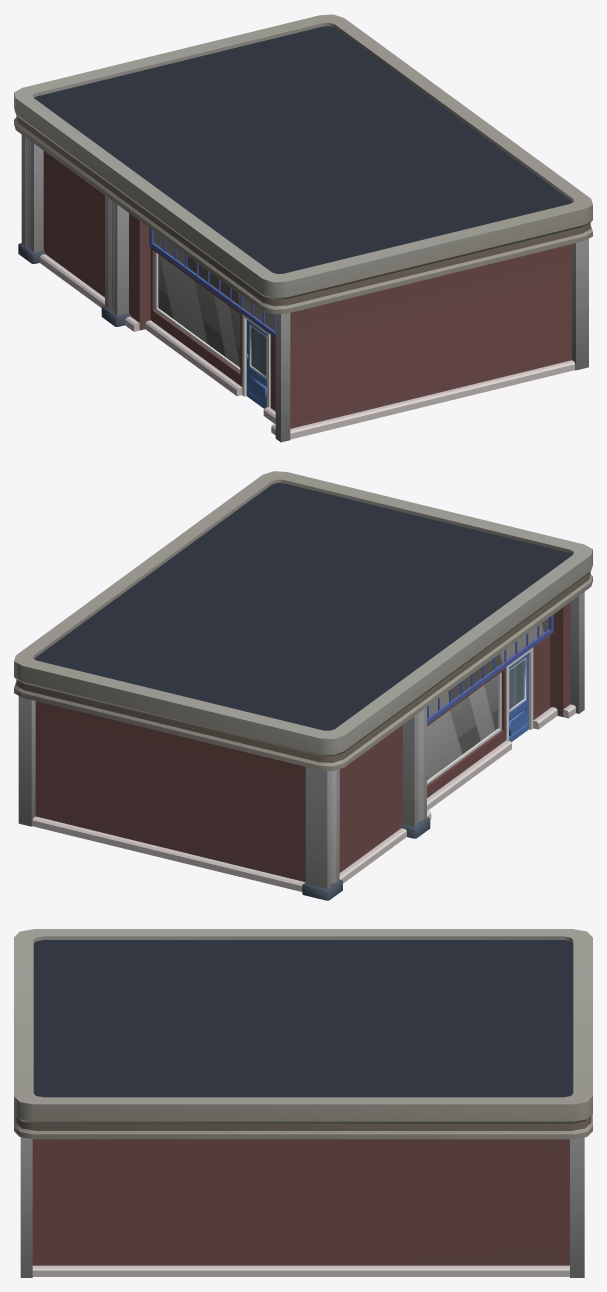
Rendered from Building_11_4_I.fbx.
3 views of the same model, one above another, from view 1: azimuth 30°, elevation 25°; view 2: azimuth 150°, elevation 25°; view 3: azimuth 270°, elevation 25° (orthographic). The views are drawn at different scales.
Parts seen in each view (by area): view 1: Building_11_4_I; view 2: Building_11_4_I; view 3: Building_11_4_I.
Boxes of the visible parts, x1,y1,x2,y2 form: Building_11_4_I: (14, 14, 592, 442); Building_11_4_I: (14, 471, 592, 900); Building_11_4_I: (14, 929, 592, 1277).
Bounding box in the file's own units: 833 × 393 × 1163.
